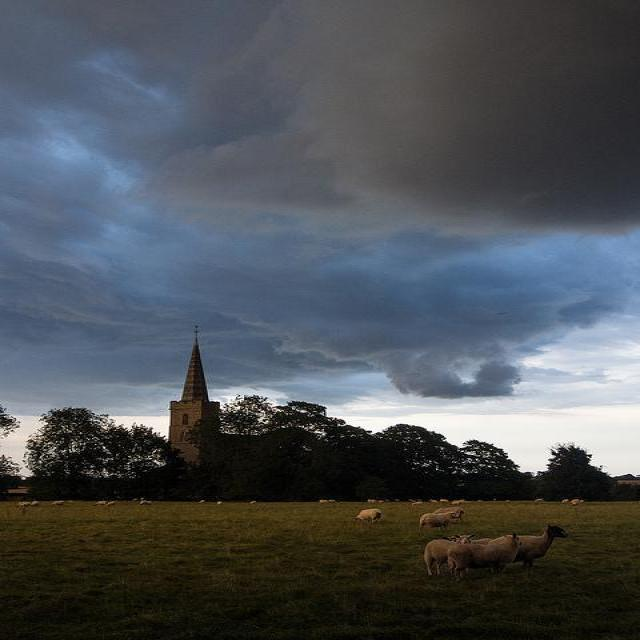Sheep: (449, 532, 524, 579), (488, 525, 569, 568), (424, 535, 475, 575)
